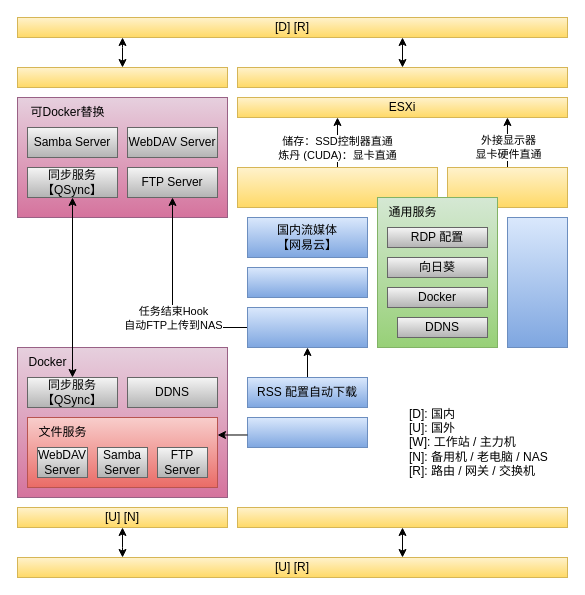
The diagram is 585 pixels wide and 595 high, and some of its shapes have lost their labels. The centre of each missing label's shape, as x and y in pixels:
[D] [N]: the point at 122,77
[D] [W]: the point at 402,77
[U] 其他设备: the point at 402,517
p2p下载 【qbittorrent】: the point at 307,327
人工日用维护系统: the point at 507,187
办公软件 【Office】: the point at 537,282
开发环境: the point at 307,282
视频播放器: the point at 307,432
远程跳板系统【Win】: the point at 337,187
